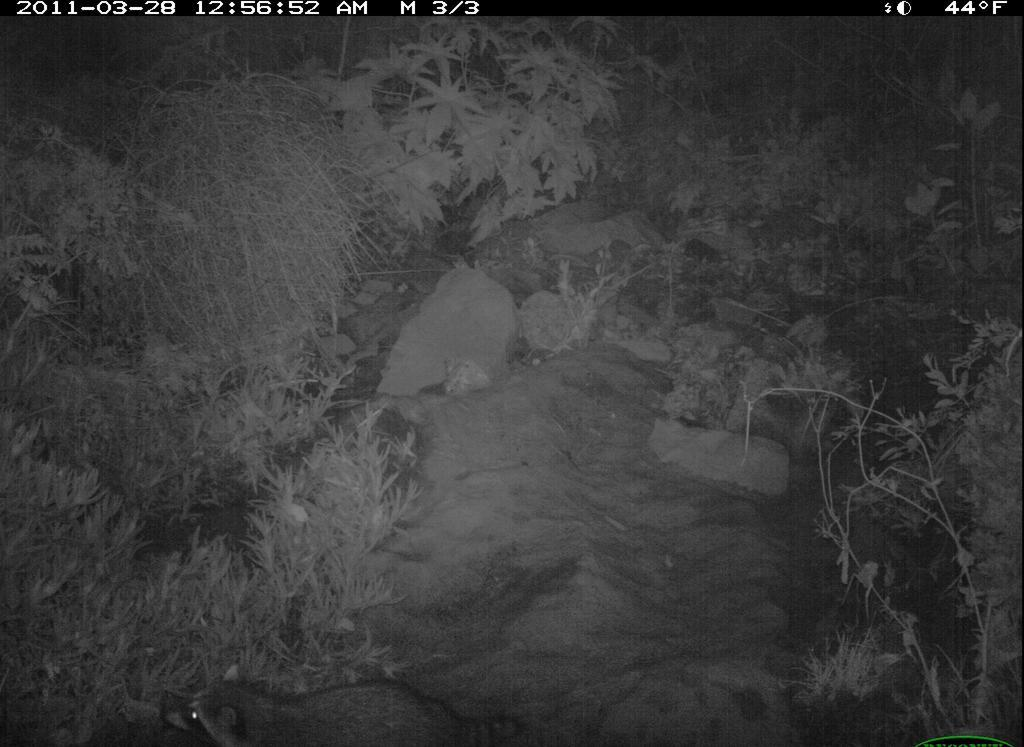raccoon: (150, 659, 521, 747)
